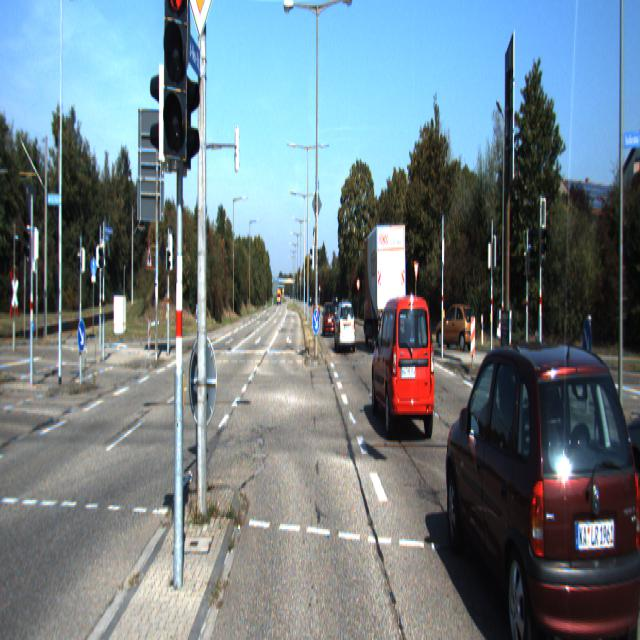Car: (445, 330, 640, 638), (370, 289, 436, 447), (612, 324, 640, 558), (362, 220, 406, 355), (436, 301, 476, 351), (334, 300, 356, 355), (323, 302, 336, 338)
